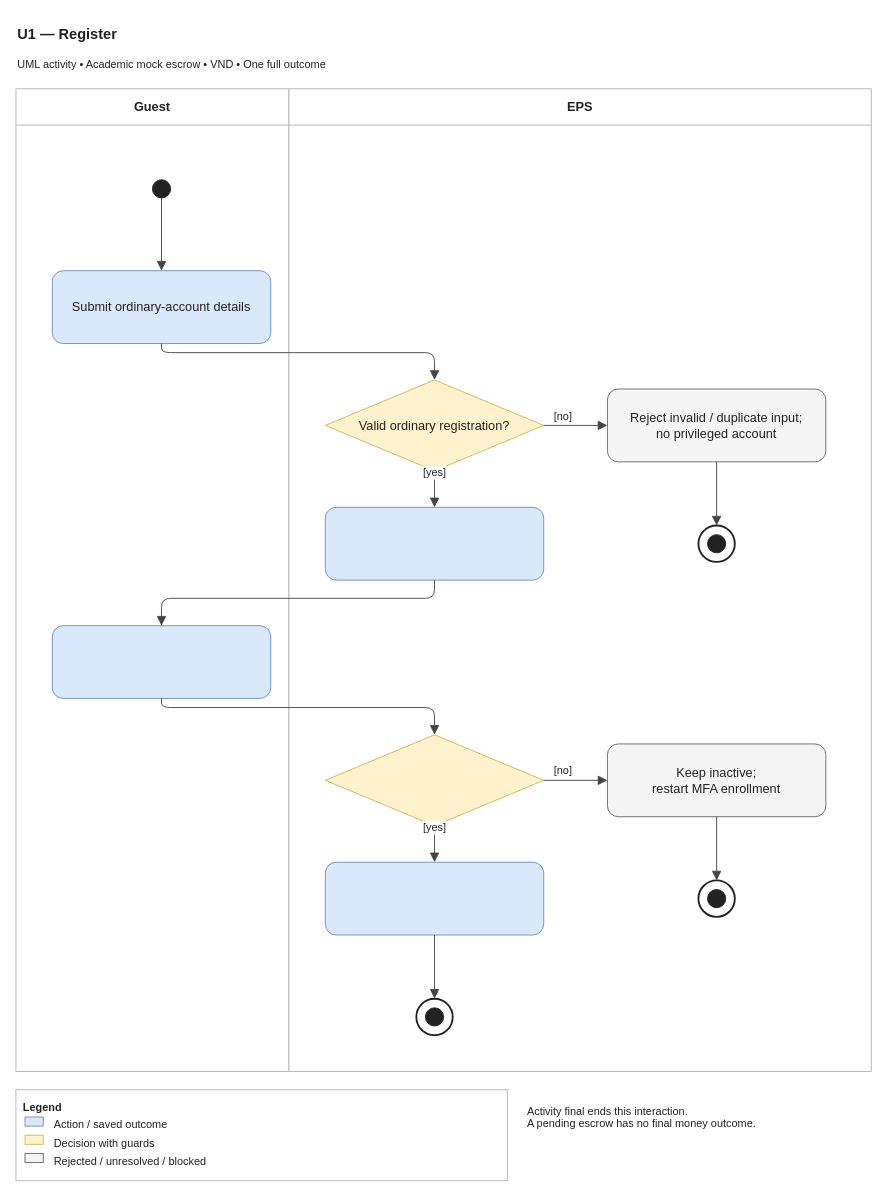
Image size: 887x1197. Some labels were removed from this diagram. The centre of each missing label's shape, as x and y in pixels:
Activate ordinary account; audit; direct to Login: the point at 434,898
Complete MFA enrollment: the point at 161,661
Enrollment proof valid?: the point at 434,780
Start MFA enrollment; account remains inactive: the point at 434,543
